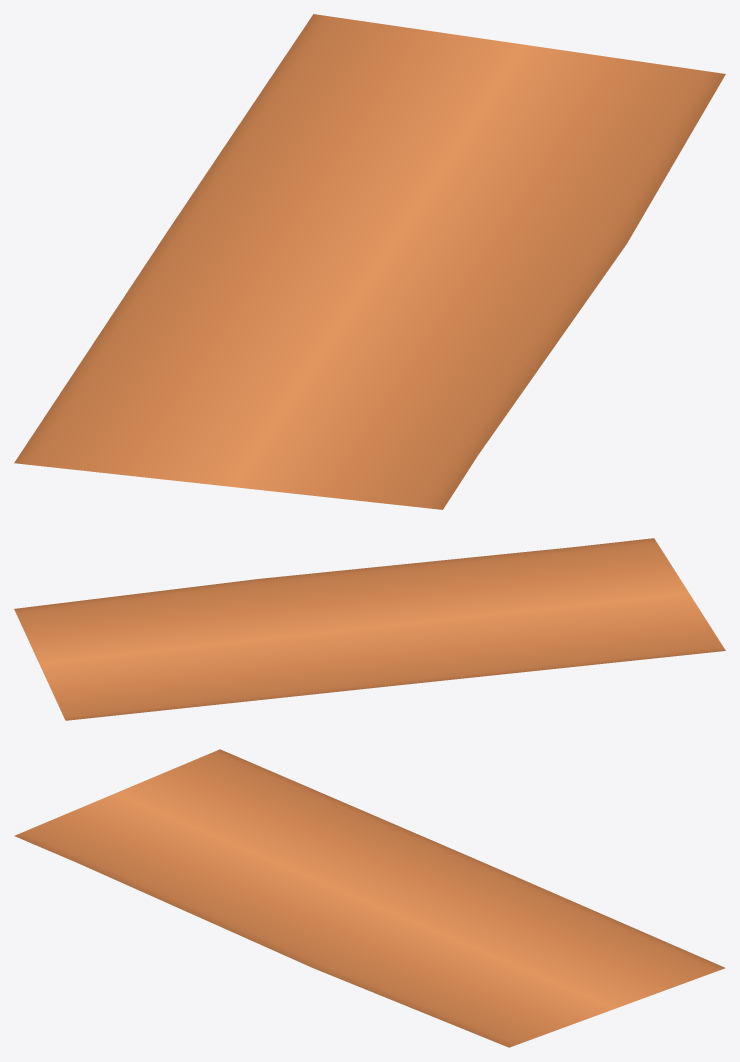
The model's file is kalimari_desert_checkpoint.glb.
3 renders of one model, top to bottom at view 1: azimuth 30°, elevation 25°; view 2: azimuth 150°, elevation 25°; view 3: azimuth 270°, elevation 25°, orthographic. The views are drawn at different scales.
Visible parts, largest first — view 1: Object_10; view 2: Object_10; view 3: Object_10.
Part boxes in pixels (bbox=[...]): Object_10: bbox=[14, 14, 725, 509]; Object_10: bbox=[14, 538, 725, 720]; Object_10: bbox=[14, 749, 725, 1047].
Bounding box in the file's own units: 60.28 × 0.0805 × 60.59.
Materials: 1 (1 with a texture image).
